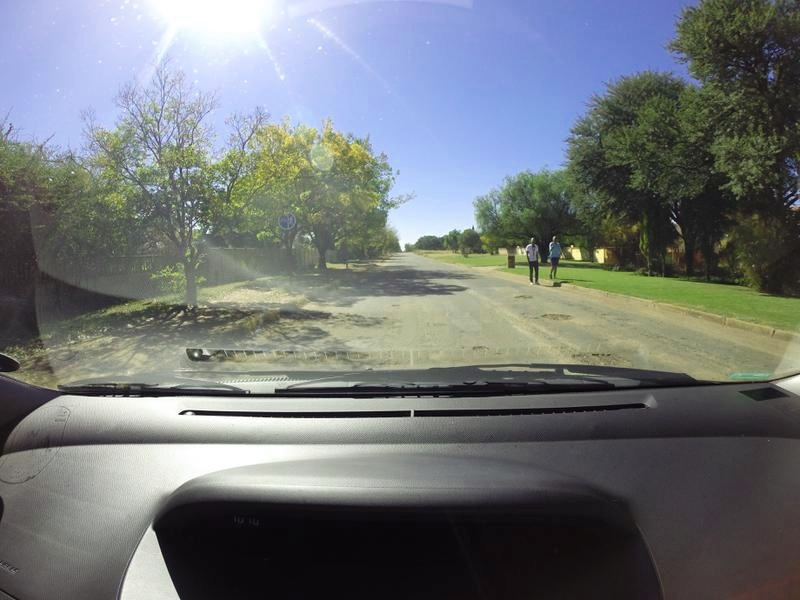pothole: (307, 340, 387, 376), (223, 344, 307, 372), (573, 343, 633, 362), (540, 306, 589, 324), (512, 286, 540, 305), (471, 342, 502, 358)
